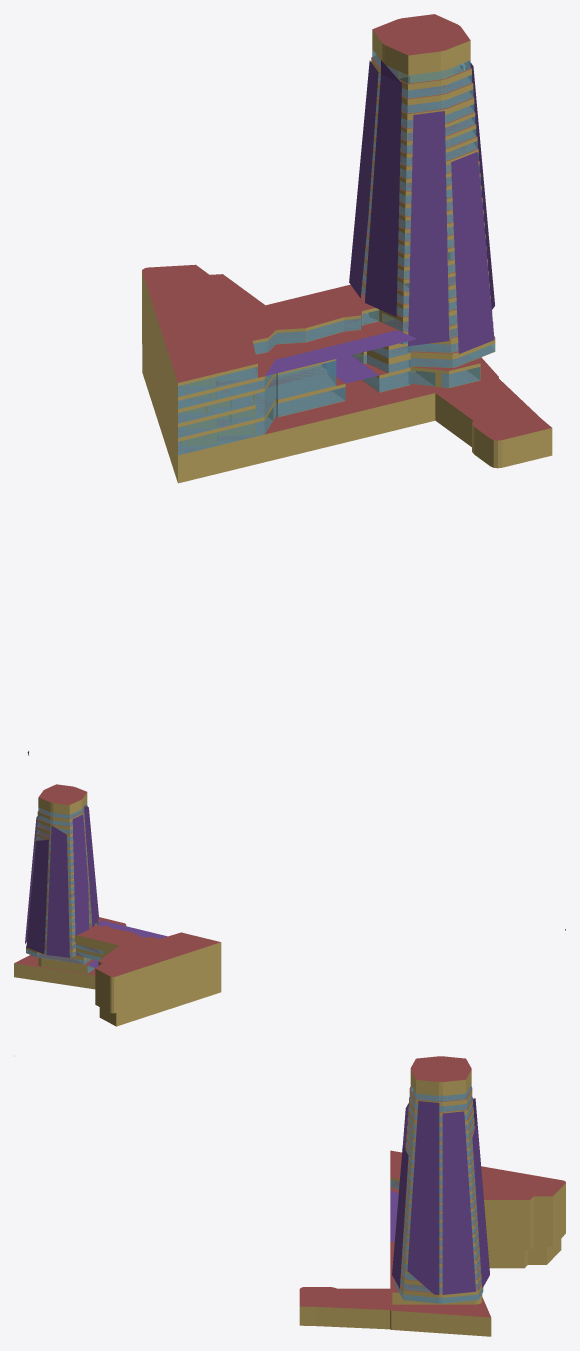
File: KMT.obj
3 renders of one model, top to bottom at view 1: azimuth 30°, elevation 25°; view 2: azimuth 150°, elevation 25°; view 3: azimuth 270°, elevation 25°, orthographic. The views are drawn at different scales.
Visible parts, largest first — view 1: Mesh174 Space___Thermal_Zone__B1_ParkingArea_Big Model, Mesh181 Shading_Surface_Group____ceabc443_fde2_4fb4_a330_99d1f60, Mesh185 Shading_Surface_Group____ceabc443_fde2_4fb4_a330_99d1f60, Mesh183 Shading_Surface_Group____ceabc443_fde2_4fb4_a330_99d1f60, Mesh159 Space___Thermal_Zone__L05_Lobby Model, Mesh1 Space___Thermal_Zone__L05_DataCenter Model, Mesh34 Space___Thermal_Zone__L05_KompasRedaksi Model, Mesh16 Space___Thermal_Zone__L04_KompasRedaksi Model, Mesh135 Space___Thermal_Zone__B2_ParkingArea_Big Model, Mesh35 Space___Thermal_Zone__B3_ParkingArea_Big Model, Mesh184 Shading_Surface_Group____ceabc443_fde2_4fb4_a330_99d1f60, Mesh149 Space___Thermal_Zone__L02_Lobby_RC Model (+12 smaller); view 2: Mesh179 Shading_Surface_Group____ceabc443_fde2_4fb4_a330_99d1f60, Mesh1 Space___Thermal_Zone__L05_DataCenter Model, Mesh177 Shading_Surface_Group____ceabc443_fde2_4fb4_a330_99d1f60, Mesh184 Shading_Surface_Group____ceabc443_fde2_4fb4_a330_99d1f60, Mesh34 Space___Thermal_Zone__L05_KompasRedaksi Model, Mesh159 Space___Thermal_Zone__L05_Lobby Model, Mesh174 Space___Thermal_Zone__B1_ParkingArea_Big Model, Mesh16 Space___Thermal_Zone__L04_KompasRedaksi Model, Mesh185 Shading_Surface_Group____ceabc443_fde2_4fb4_a330_99d1f60, Mesh138 Space___Thermal_Zone__L01_KompasTV Model, Mesh62 Space___Thermal_Zone__L25_Roof_01 Model, Mesh100 Space___Thermal_Zone__L03_Corridor_Main Model (+9 smaller); view 3: Mesh182 Shading_Surface_Group____ceabc443_fde2_4fb4_a330_99d1f60, Mesh186 Shading_Surface_Group____ceabc443_fde2_4fb4_a330_99d1f60, Mesh174 Space___Thermal_Zone__B1_ParkingArea_Big Model, Mesh1 Space___Thermal_Zone__L05_DataCenter Model, Mesh135 Space___Thermal_Zone__B2_ParkingArea_Big Model, Mesh35 Space___Thermal_Zone__B3_ParkingArea_Big Model, Mesh177 Shading_Surface_Group____ceabc443_fde2_4fb4_a330_99d1f60, Mesh183 Shading_Surface_Group____ceabc443_fde2_4fb4_a330_99d1f60, Mesh62 Space___Thermal_Zone__L25_Roof_01 Model, Mesh55 Space___Thermal_Zone__L02_OfficeLobby Model, Mesh16 Space___Thermal_Zone__L04_KompasRedaksi Model, Mesh118 Space___Thermal_Zone__L24_Tenant Model (+8 smaller).
Part boxes in pixels (x1,y1,x2,y2): Mesh174 Space___Thermal_Zone__B1_ParkingArea_Big Model: [151, 357, 552, 453]; Mesh181 Shading_Surface_Group____ceabc443_fde2_4fb4_a330_99d1f60: [408, 111, 449, 346]; Mesh185 Shading_Surface_Group____ceabc443_fde2_4fb4_a330_99d1f60: [365, 60, 401, 316]; Mesh183 Shading_Surface_Group____ceabc443_fde2_4fb4_a330_99d1f60: [451, 152, 494, 353]; Mesh159 Space___Thermal_Zone__L05_Lobby Model: [245, 284, 379, 354]; Mesh1 Space___Thermal_Zone__L05_DataCenter Model: [142, 264, 264, 344]; Mesh34 Space___Thermal_Zone__L05_KompasRedaksi Model: [161, 310, 257, 387]; Mesh16 Space___Thermal_Zone__L04_KompasRedaksi Model: [142, 286, 408, 400]; Mesh135 Space___Thermal_Zone__B2_ParkingArea_Big Model: [151, 385, 552, 461]; Mesh35 Space___Thermal_Zone__B3_ParkingArea_Big Model: [151, 393, 552, 470]; Mesh184 Shading_Surface_Group____ceabc443_fde2_4fb4_a330_99d1f60: [349, 60, 378, 297]; Mesh149 Space___Thermal_Zone__L02_Lobby_RC Model: [253, 359, 336, 419]; Mesh179 Shading_Surface_Group____ceabc443_fde2_4fb4_a330_99d1f60: [46, 826, 69, 957]; Mesh1 Space___Thermal_Zone__L05_DataCenter Model: [95, 945, 171, 984]; Mesh177 Shading_Surface_Group____ceabc443_fde2_4fb4_a330_99d1f60: [26, 839, 48, 953]; Mesh184 Shading_Surface_Group____ceabc443_fde2_4fb4_a330_99d1f60: [72, 814, 89, 935]; Mesh34 Space___Thermal_Zone__L05_KompasRedaksi Model: [130, 932, 207, 965]; Mesh159 Space___Thermal_Zone__L05_Lobby Model: [75, 925, 158, 950]; Mesh174 Space___Thermal_Zone__B1_ParkingArea_Big Model: [14, 917, 209, 1009]; Mesh16 Space___Thermal_Zone__L04_KompasRedaksi Model: [69, 924, 207, 990]; Mesh185 Shading_Surface_Group____ceabc443_fde2_4fb4_a330_99d1f60: [84, 806, 98, 927]; Mesh138 Space___Thermal_Zone__L01_KompasTV Model: [38, 954, 94, 973]; Mesh62 Space___Thermal_Zone__L25_Roof_01 Model: [38, 786, 85, 811]; Mesh100 Space___Thermal_Zone__L03_Corridor_Main Model: [127, 958, 211, 993]; Mesh182 Shading_Surface_Group____ceabc443_fde2_4fb4_a330_99d1f60: [442, 1111, 475, 1294]; Mesh186 Shading_Surface_Group____ceabc443_fde2_4fb4_a330_99d1f60: [407, 1101, 439, 1294]; Mesh174 Space___Thermal_Zone__B1_ParkingArea_Big Model: [299, 1241, 516, 1325]; Mesh1 Space___Thermal_Zone__L05_DataCenter Model: [481, 1166, 565, 1209]; Mesh135 Space___Thermal_Zone__B2_ParkingArea_Big Model: [299, 1257, 516, 1330]; Mesh35 Space___Thermal_Zone__B3_ParkingArea_Big Model: [299, 1263, 516, 1336]; Mesh177 Shading_Surface_Group____ceabc443_fde2_4fb4_a330_99d1f60: [472, 1120, 489, 1288]; Mesh183 Shading_Surface_Group____ceabc443_fde2_4fb4_a330_99d1f60: [392, 1145, 408, 1288]; Mesh62 Space___Thermal_Zone__L25_Roof_01 Model: [426, 1056, 471, 1091]; Mesh55 Space___Thermal_Zone__L02_OfficeLobby Model: [395, 1281, 443, 1303]; Mesh16 Space___Thermal_Zone__L04_KompasRedaksi Model: [390, 1181, 565, 1218]; Mesh118 Space___Thermal_Zone__L24_Tenant Model: [426, 1080, 471, 1101].
Bounding box in the file's own units: 276380 × 122600 × 248732.
